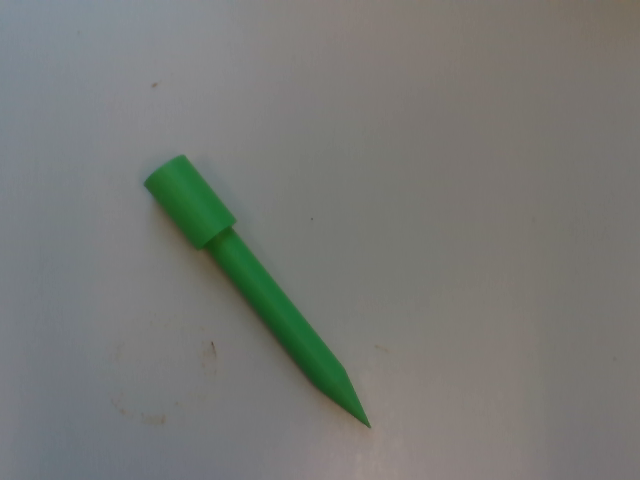Probe: (139, 151, 377, 434)
